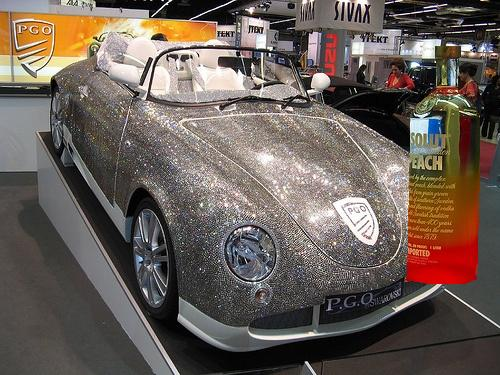tampered: (406, 47, 480, 284)
